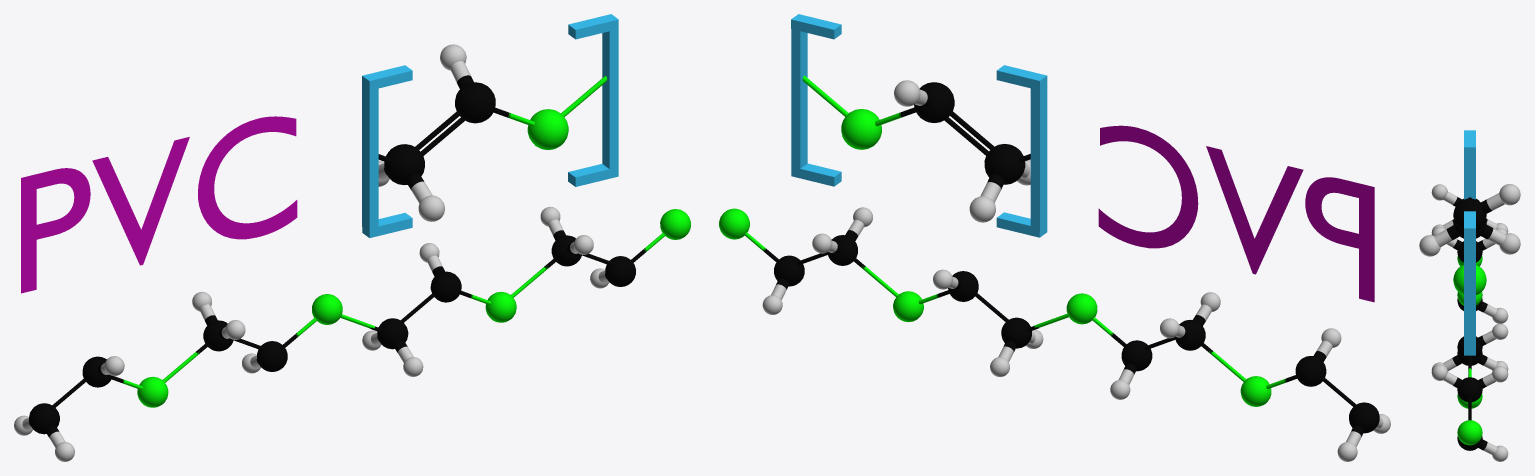
The model's file is PVC.obj.
3 views of the same model, side by side, from view 1: azimuth 30°, elevation 25°; view 2: azimuth 150°, elevation 25°; view 3: azimuth 270°, elevation 25° (orthographic). The views are drawn at different scales.
Visible parts, largest first — view 1: Text.005_Text.077, Cube.011_Cube.020, Cube.012_Cube.021, Shape_IndexedFaceSet.1700_Shape_IndexedFaceSet.1756, Shape_IndexedFaceSet.1708_Shape_IndexedFaceSet.1764, Shape_IndexedFaceSet.1692_Shape_IndexedFaceSet.7127, Shape_IndexedFaceSet.1890_Shape_IndexedFaceSet.1946, Shape_IndexedFaceSet.1919_Shape_IndexedFaceSet.1975, Shape_IndexedFaceSet.1877_Shape_IndexedFaceSet.1933, Shape_IndexedFaceSet.1856_Shape_IndexedFaceSet.1912, Shape_IndexedFaceSet.1898_Shape_IndexedFaceSet.1954, Shape_IndexedFaceSet.1911_Shape_IndexedFaceSet.1967 (+3 smaller); view 2: Text.005_Text.077, Cube.011_Cube.020, Cube.012_Cube.021, Shape_IndexedFaceSet.1708_Shape_IndexedFaceSet.1764, Shape_IndexedFaceSet.1692_Shape_IndexedFaceSet.7127, Shape_IndexedFaceSet.1700_Shape_IndexedFaceSet.1756, Shape_IndexedFaceSet.1877_Shape_IndexedFaceSet.1933, Shape_IndexedFaceSet.1919_Shape_IndexedFaceSet.1975, Shape_IndexedFaceSet.1848_Shape_IndexedFaceSet.1904, Shape_IndexedFaceSet.1856_Shape_IndexedFaceSet.1912, Shape_IndexedFaceSet.1898_Shape_IndexedFaceSet.1954, Shape_IndexedFaceSet.1840_Shape_IndexedFaceSet.1896 (+3 smaller); view 3: Cube.012_Cube.021, Cube.011_Cube.020, Shape_IndexedFaceSet.1700_Shape_IndexedFaceSet.1756, Shape_IndexedFaceSet.1919_Shape_IndexedFaceSet.1975, Shape_IndexedFaceSet.1708_Shape_IndexedFaceSet.1764, Shape_IndexedFaceSet.1903_Shape_IndexedFaceSet.1959, Shape_IndexedFaceSet.1702_Shape_IndexedFaceSet.1758, Shape_IndexedFaceSet.1693_Shape_IndexedFaceSet.7128, Shape_IndexedFaceSet.1694_Shape_IndexedFaceSet.7129, Shape_IndexedFaceSet.1890_Shape_IndexedFaceSet.1946, Shape_IndexedFaceSet.1849_Shape_IndexedFaceSet.1905, Shape_IndexedFaceSet.1892_Shape_IndexedFaceSet.1948 (+13 smaller).
Boxes of the visible parts, <box> form: Text.005_Text.077: <box>21,116,297,293</box>; Cube.011_Cube.020: <box>362,65,412,237</box>; Cube.012_Cube.021: <box>568,14,618,186</box>; Shape_IndexedFaceSet.1700_Shape_IndexedFaceSet.1756: <box>455,82,495,123</box>; Shape_IndexedFaceSet.1708_Shape_IndexedFaceSet.1764: <box>527,109,568,149</box>; Shape_IndexedFaceSet.1692_Shape_IndexedFaceSet.7127: <box>384,144,424,184</box>; Shape_IndexedFaceSet.1890_Shape_IndexedFaceSet.1946: <box>430,271,461,302</box>; Shape_IndexedFaceSet.1919_Shape_IndexedFaceSet.1975: <box>660,209,690,239</box>; Shape_IndexedFaceSet.1877_Shape_IndexedFaceSet.1933: <box>312,294,342,324</box>; Shape_IndexedFaceSet.1856_Shape_IndexedFaceSet.1912: <box>137,376,168,407</box>; Shape_IndexedFaceSet.1898_Shape_IndexedFaceSet.1954: <box>485,291,516,322</box>; Shape_IndexedFaceSet.1911_Shape_IndexedFaceSet.1967: <box>605,256,635,286</box>; Text.005_Text.077: <box>1098,125,1374,302</box>; Cube.011_Cube.020: <box>996,65,1047,237</box>; Cube.012_Cube.021: <box>791,14,841,186</box>; Shape_IndexedFaceSet.1708_Shape_IndexedFaceSet.1764: <box>841,109,881,149</box>; Shape_IndexedFaceSet.1692_Shape_IndexedFaceSet.7127: <box>984,144,1025,184</box>; Shape_IndexedFaceSet.1700_Shape_IndexedFaceSet.1756: <box>914,82,954,122</box>; Shape_IndexedFaceSet.1877_Shape_IndexedFaceSet.1933: <box>1066,293,1097,324</box>; Shape_IndexedFaceSet.1919_Shape_IndexedFaceSet.1975: <box>719,208,749,239</box>; Shape_IndexedFaceSet.1848_Shape_IndexedFaceSet.1904: <box>1295,356,1326,386</box>; Shape_IndexedFaceSet.1856_Shape_IndexedFaceSet.1912: <box>1240,376,1271,406</box>; Shape_IndexedFaceSet.1898_Shape_IndexedFaceSet.1954: <box>893,291,923,322</box>; Shape_IndexedFaceSet.1840_Shape_IndexedFaceSet.1896: <box>1349,402,1379,433</box>; Cube.012_Cube.021: <box>1464,211,1475,355</box>; Cube.011_Cube.020: <box>1464,130,1475,199</box>; Shape_IndexedFaceSet.1700_Shape_IndexedFaceSet.1756: <box>1453,198,1486,230</box>; Shape_IndexedFaceSet.1919_Shape_IndexedFaceSet.1975: <box>1457,420,1482,445</box>; Shape_IndexedFaceSet.1708_Shape_IndexedFaceSet.1764: <box>1453,265,1486,295</box>; Shape_IndexedFaceSet.1903_Shape_IndexedFaceSet.1959: <box>1457,377,1482,401</box>; Shape_IndexedFaceSet.1702_Shape_IndexedFaceSet.1758: <box>1499,184,1520,205</box>; Shape_IndexedFaceSet.1693_Shape_IndexedFaceSet.7128: <box>1419,235,1440,256</box>; Shape_IndexedFaceSet.1694_Shape_IndexedFaceSet.7129: <box>1499,233,1520,254</box>; Shape_IndexedFaceSet.1890_Shape_IndexedFaceSet.1946: <box>1457,336,1482,359</box>; Shape_IndexedFaceSet.1849_Shape_IndexedFaceSet.1905: <box>1431,184,1447,200</box>; Shape_IndexedFaceSet.1892_Shape_IndexedFaceSet.1948: <box>1492,323,1508,339</box>.
Size of the model in its own units: 145 by 60.94 by 23.66.
